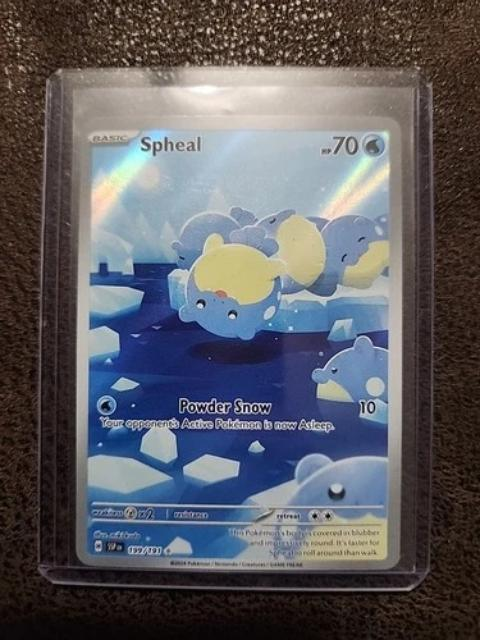Card: (69, 109, 406, 573)
Name: (132, 129, 204, 157)
